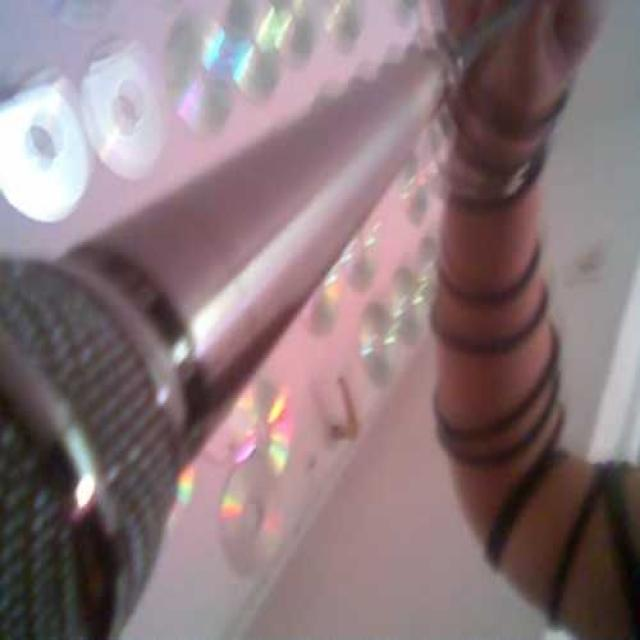microphone: (2, 54, 446, 628)
